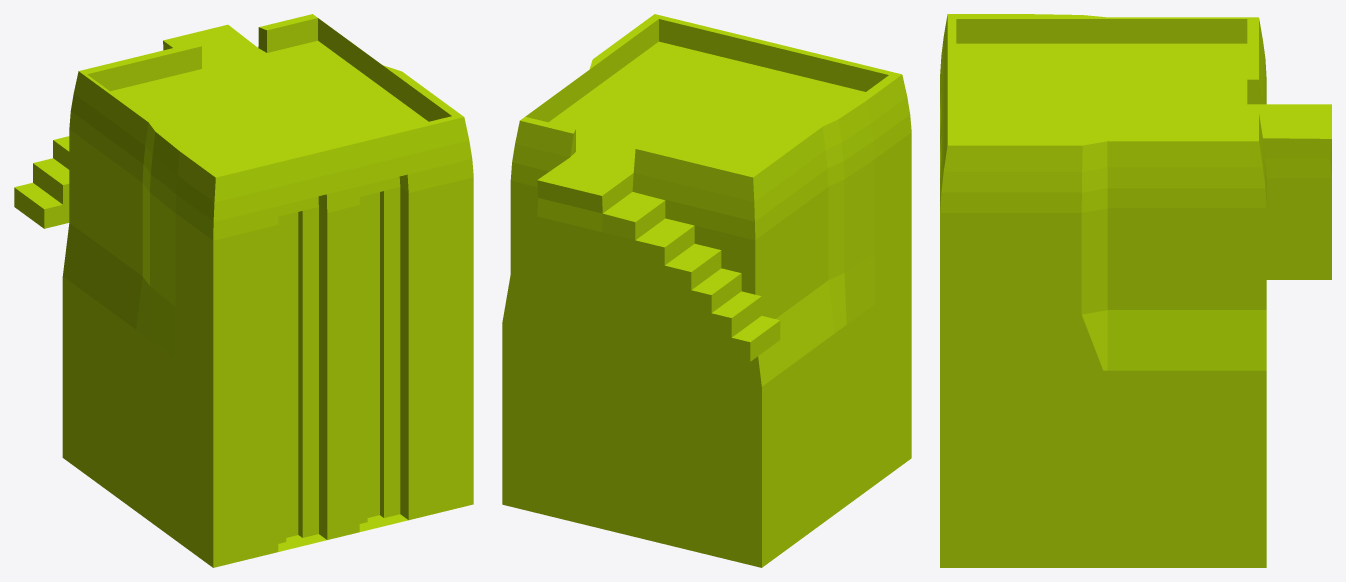
The model's file is ancient_tower.fbx.
The picture shows the model from 3 angles, left to right: view 1: azimuth 30°, elevation 25°; view 2: azimuth 150°, elevation 25°; view 3: azimuth 270°, elevation 25°; orthographic projection. The views are drawn at different scales.
Visible parts, largest first — view 1: Cube; view 2: Cube; view 3: Cube.
Boxes of the visible parts, <box> form: Cube: <box>14,14,473,567</box>; Cube: <box>502,14,911,567</box>; Cube: <box>940,14,1331,567</box>.
Size of the model in its own units: 643 by 850 by 720.
